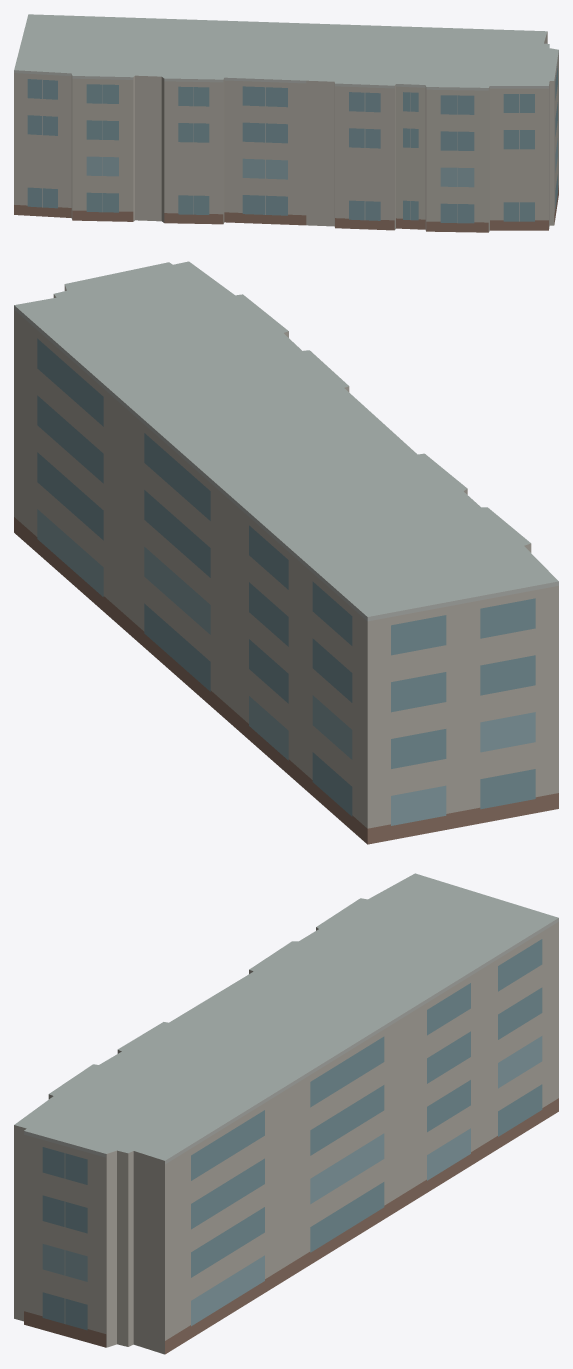
File: survey-upis-32768428.glb
3 views of the same model, one above another, from view 1: azimuth 30°, elevation 25°; view 2: azimuth 150°, elevation 25°; view 3: azimuth 270°, elevation 25° (orthographic). The views are drawn at different scales.
Parts seen in each view (by area): view 1: survey-upis-32768428.tmp; view 2: survey-upis-32768428.tmp; view 3: survey-upis-32768428.tmp.
Part boxes in pixels (x1,y1,x2,y2): survey-upis-32768428.tmp: (14,14,558,232); survey-upis-32768428.tmp: (14,261,558,844); survey-upis-32768428.tmp: (14,873,558,1354).
Size of the model in its own units: 40.42 by 12.7 by 32.38.
